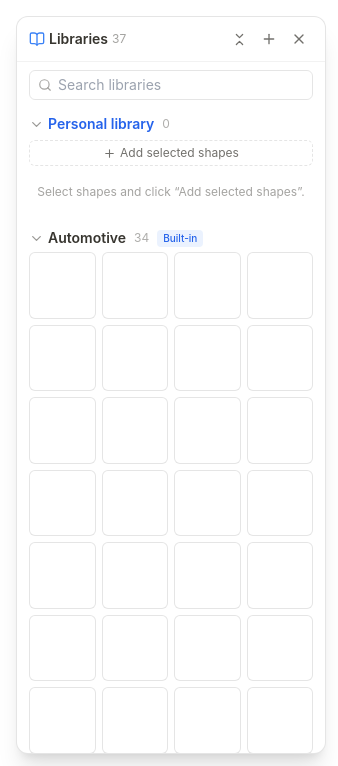
LibraryPanel › installs from a link
Click the button named "Add library": (269, 39) 255,25 -> 283,53
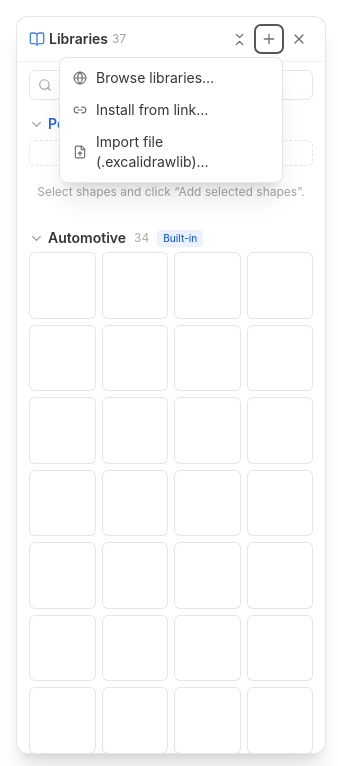
Click the button "Install from link…": (171, 110) 64,94 -> 278,126
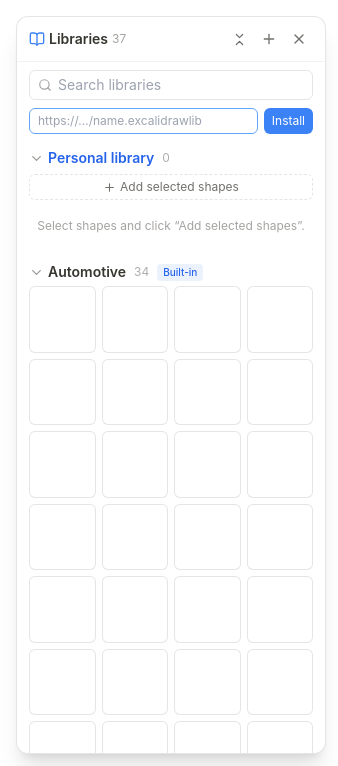
In the field named "Library link": (143, 121) 29,108 -> 258,134, type "https://x.com/icons.excalidrawlib"
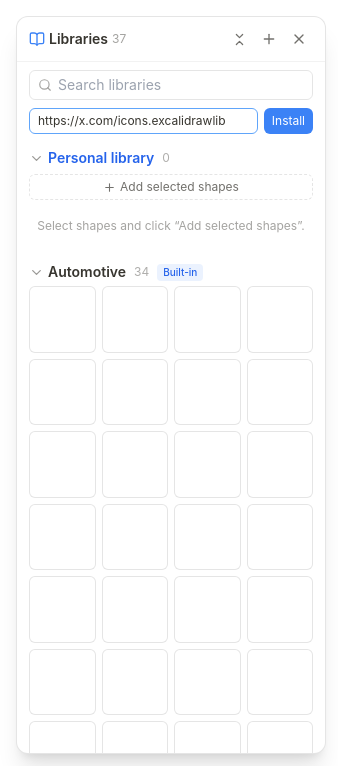
Click the button "Install": (288, 121) 264,108 -> 313,134
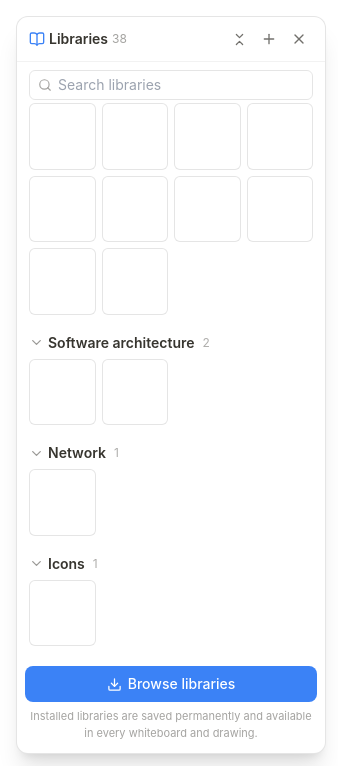
Check: the element "Icons" is shown, box 25,548 -> 317,654
